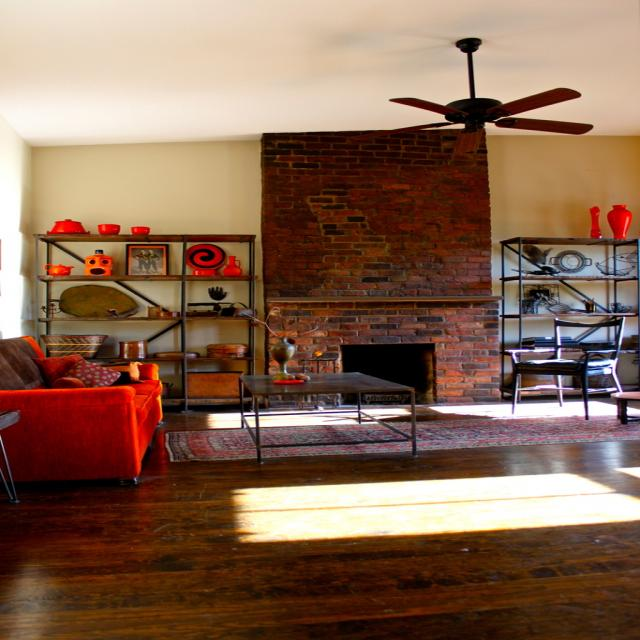Bulb: (342, 38, 592, 155)
